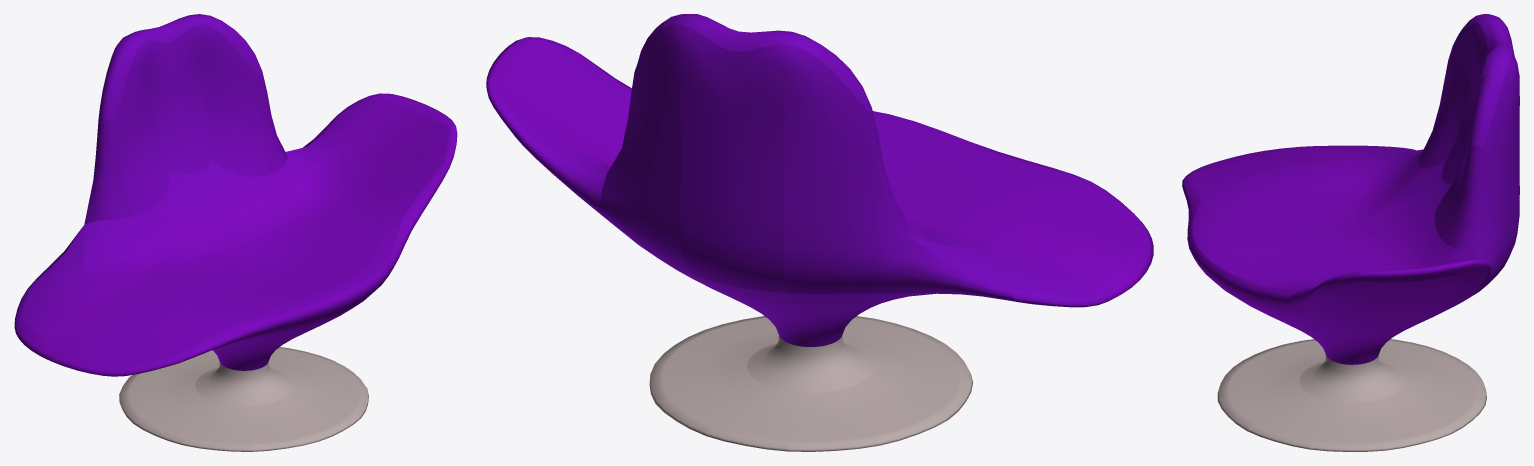
The model's file is Chair2.fbx.
3 renders of one model, left to right at view 1: azimuth 30°, elevation 25°; view 2: azimuth 150°, elevation 25°; view 3: azimuth 270°, elevation 25°, orthographic. The views are drawn at different scales.
Visible parts, largest first — view 1: Stuhl2; view 2: Stuhl2; view 3: Stuhl2.
Boxes of the visible parts, x1,y1,x2,y2 form: Stuhl2: (14,14,457,451); Stuhl2: (486,14,1153,451); Stuhl2: (1182,14,1519,451).
Size of the model in its own units: 128 by 91.15 by 77.49.
